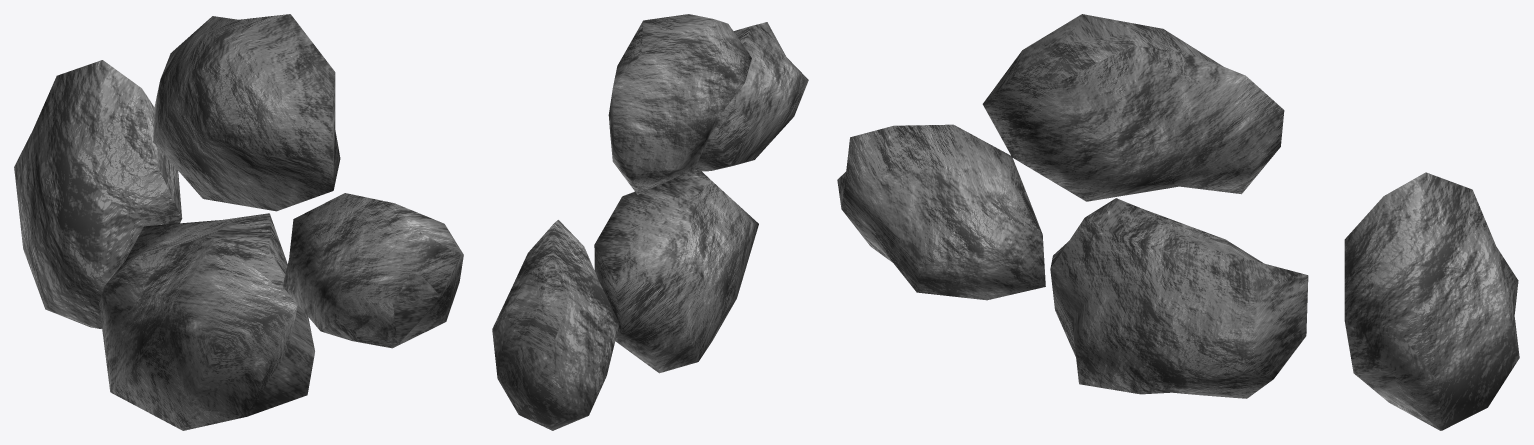
Rendered from RockSmallCluster01.fbx.
3 views of the same model, side by side, from view 1: azimuth 30°, elevation 25°; view 2: azimuth 150°, elevation 25°; view 3: azimuth 270°, elevation 25° (orthographic). The views are drawn at different scales.
Visible parts, largest first — view 1: Icosphere.009; view 2: Icosphere.009; view 3: Icosphere.009.
Part boxes in pixels (<box>): Icosphere.009: <box>14,14,463,430</box>; Icosphere.009: <box>492,14,808,430</box>; Icosphere.009: <box>837,14,1519,430</box>.
Bounding box in the file's own units: 98.84 × 208 × 318.
